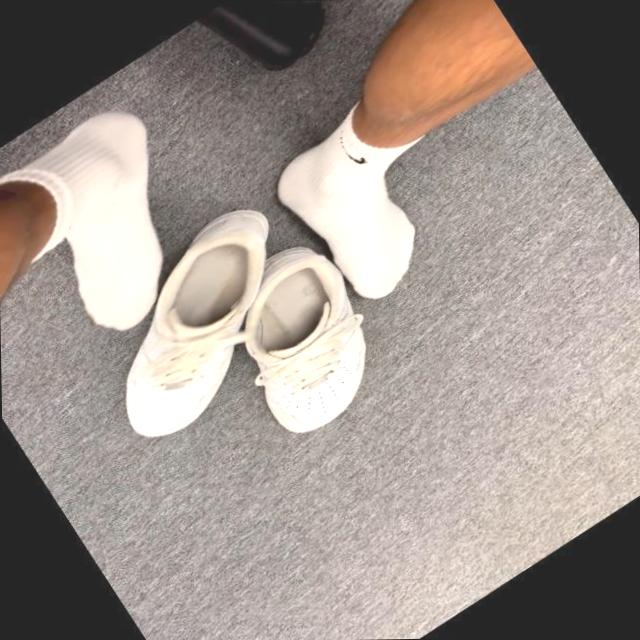nike_original_airforce: (46, 182, 342, 455), (191, 223, 416, 454)
